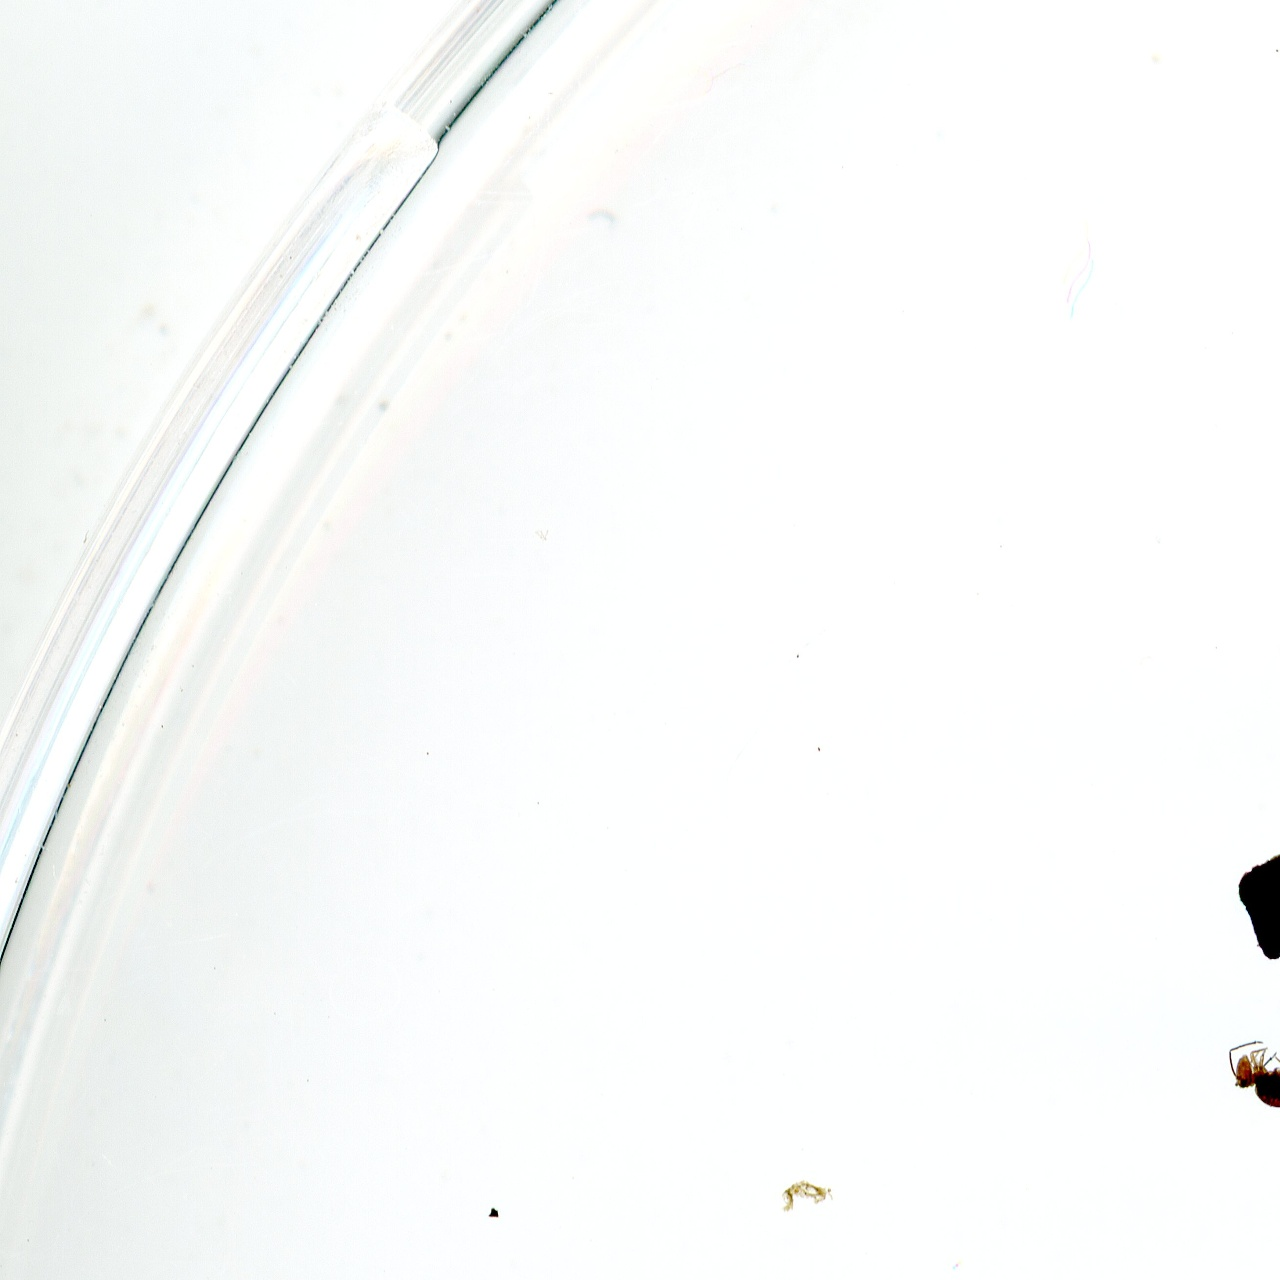arthropod: (1208, 1029, 1280, 1122)
